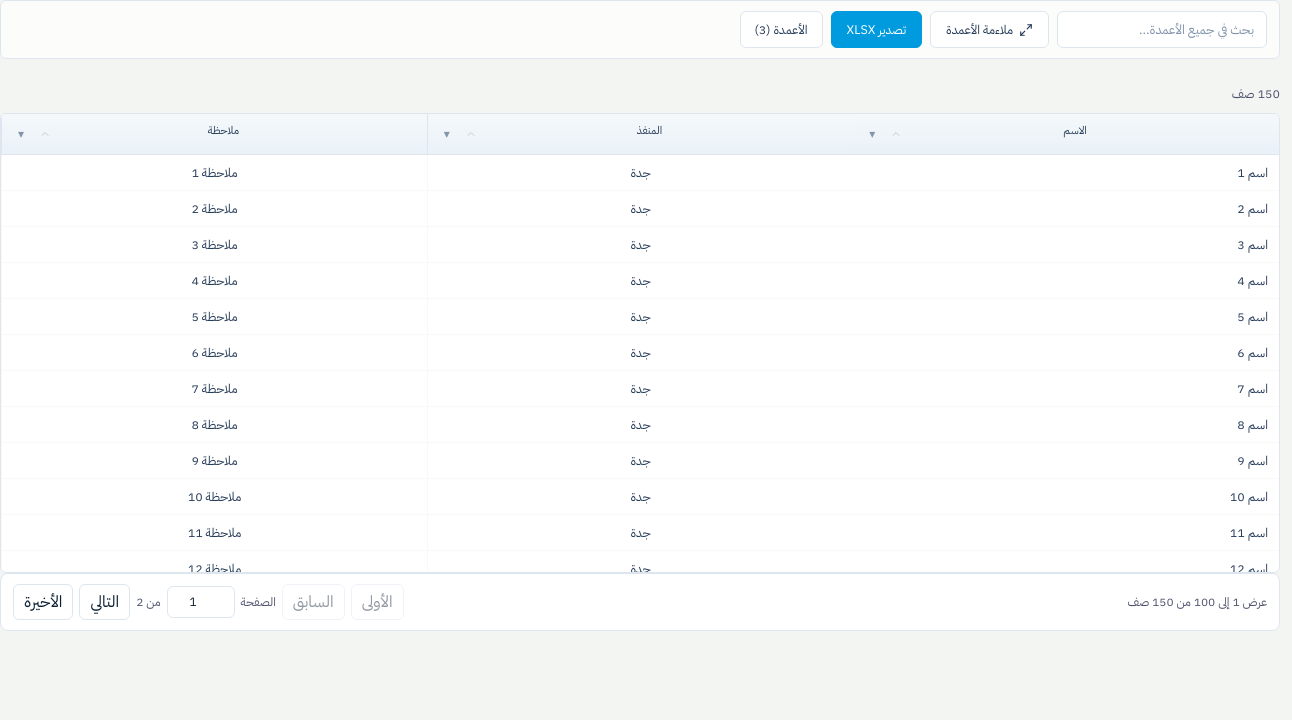
Test case: DataTable — RTL render + interactions (characterization) › limits large datasets to 100-row pages and can move to the next page
The width and height of the screenshot is (1292, 720).
Expected: the element with class "data-pagination-summary" reads "عرض 1 إلى 100 من 150 صف", [1127,592,1267,610]
Expected: the text "اسم 1" is shown, [1237,163,1268,182]
Click the button with aria-label "الصفحة التالية" at (105, 602), box [79,584,130,620]
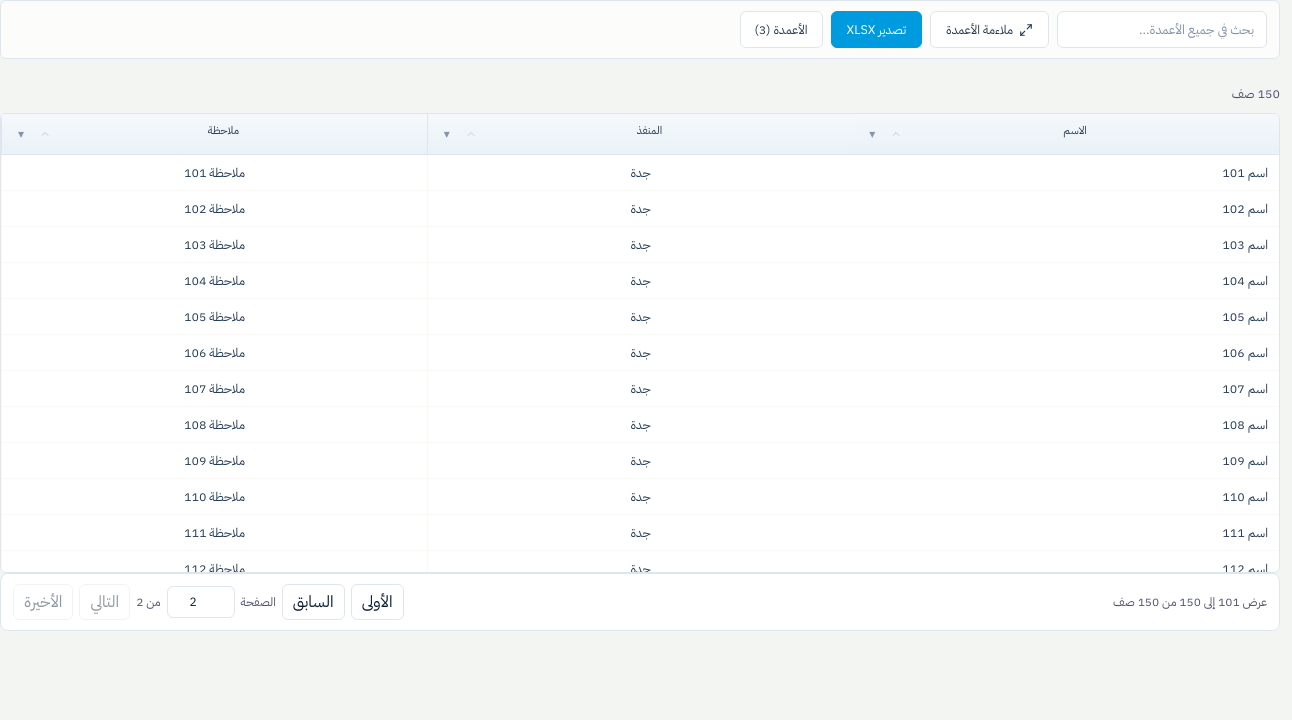
Expected: the element with class "data-pagination-summary" reads "عرض 101 إلى 150 من 150 صف", [1113,592,1267,610]
Expected: the text "اسم 101" is shown, [1222,163,1268,182]
